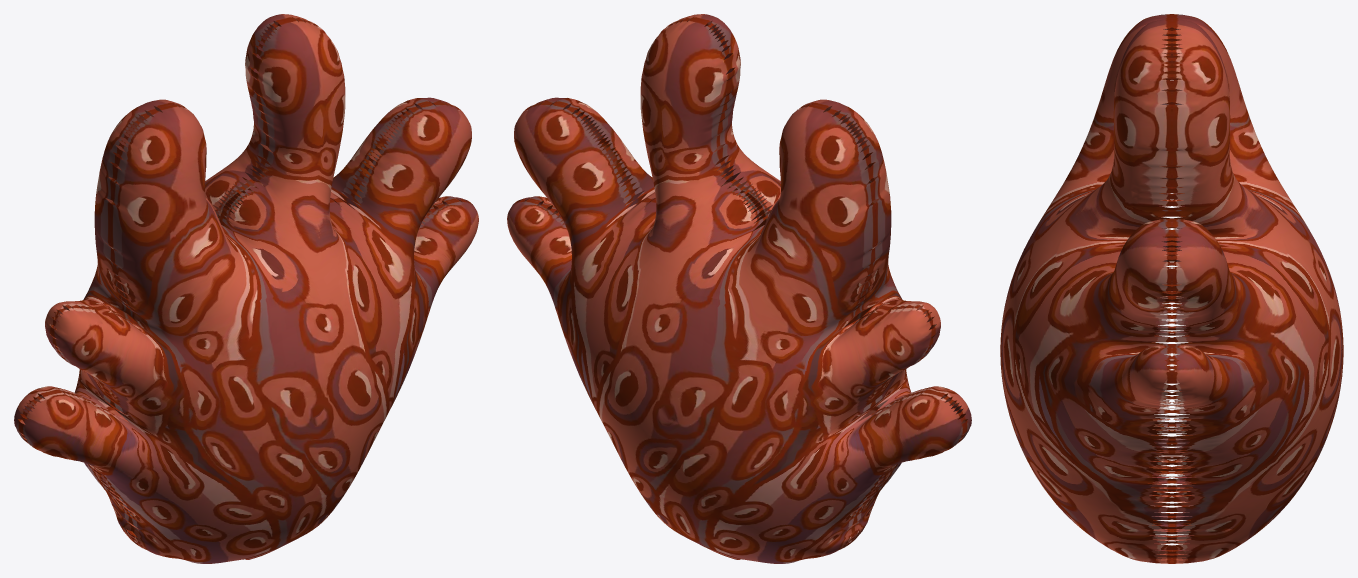
File: orange_sponge.glb
3 views of the same model, side by side, from view 1: azimuth 30°, elevation 25°; view 2: azimuth 150°, elevation 25°; view 3: azimuth 270°, elevation 25° (orthographic). The views are drawn at different scales.
Visible parts, largest first — view 1: orange_sponge; view 2: orange_sponge; view 3: orange_sponge.
Part boxes in pixels (x1,y1,x2,y2): orange_sponge: (14, 14, 478, 563); orange_sponge: (507, 14, 971, 563); orange_sponge: (1000, 14, 1343, 563).
Size of the model in its own units: 0.9882 by 1.07 by 0.5994.
Materials: 1 (1 with a texture image).
